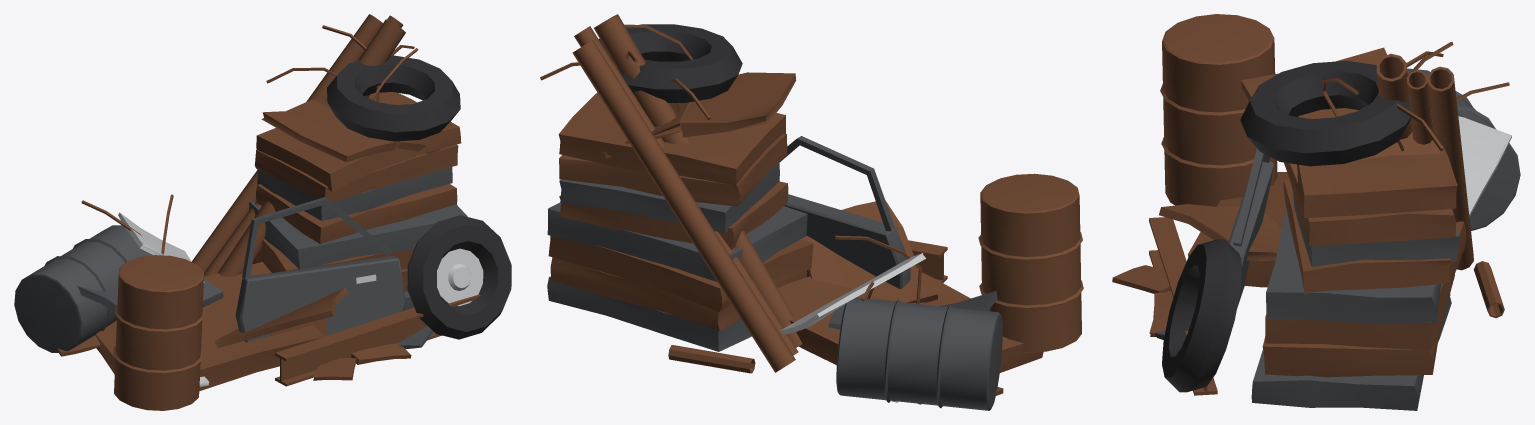
File: scrap_pile_b.glb
The picture shows the model from 3 angles, left to right: view 1: azimuth 30°, elevation 25°; view 2: azimuth 150°, elevation 25°; view 3: azimuth 270°, elevation 25°; orthographic projection. The views are drawn at different scales.
Visible parts, largest first — view 1: scrap_pile_b; view 2: scrap_pile_b; view 3: scrap_pile_b.
Boxes of the visible parts, x1,y1,x2,y2 form: scrap_pile_b: [14, 14, 511, 410]; scrap_pile_b: [540, 14, 1083, 410]; scrap_pile_b: [1112, 14, 1520, 410].
Bounding box in the file's own units: 3.05 × 1.92 × 2.07.
